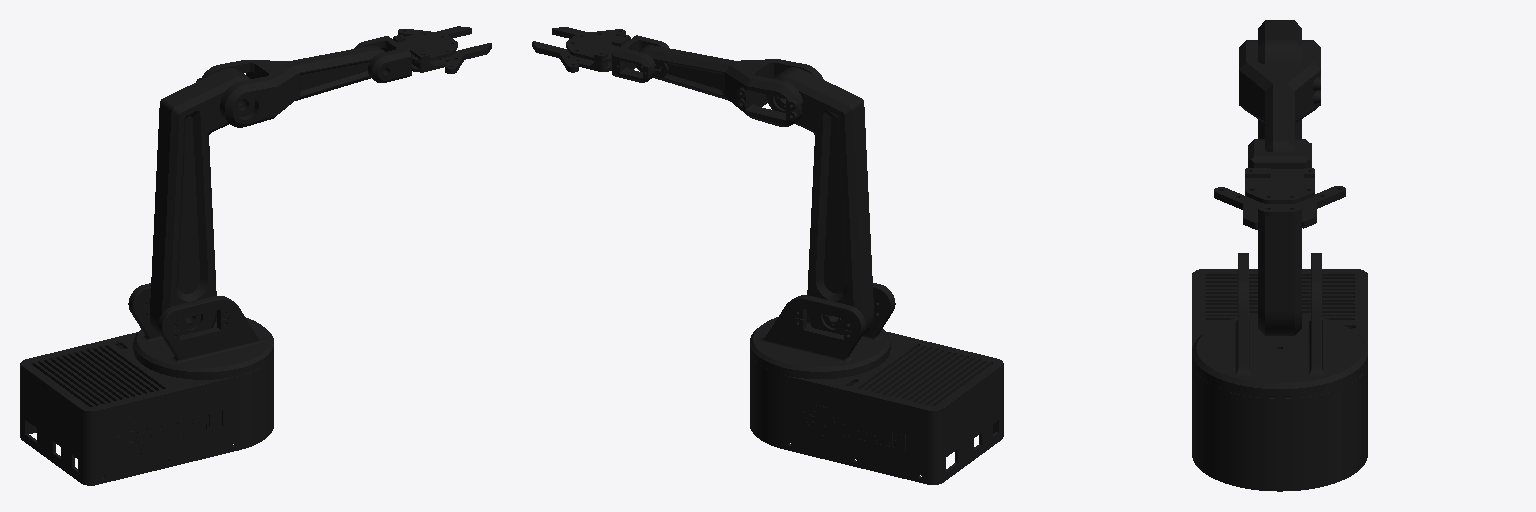
robot.urdf — robot_arm:
<?xml version="1.0"?>
<robot name="robot_arm">

  <!-- ===== MATERIALS ===== -->
  <material name="black"><color rgba="0.15 0.15 0.15 1"/></material>
  <material name="blue"><color rgba="0.2 0.5 0.9 1"/></material>
  <material name="red"><color rgba="0.9 0.2 0.2 1"/></material>
  <material name="green"><color rgba="0.2 0.9 0.3 1"/></material>

  <!-- Anchors base_link to the world origin so robot_state_publisher
       publishes a world -> base_link static TF frame for Foxglove/RViz. -->
  <link name="world"/>
  <joint name="world_to_base" type="fixed">
    <parent link="world"/>
    <child link="base_link"/>
    <origin xyz="0 0 0" rpy="0 0 0"/>
  </joint>

  <!-- ============================================================ -->
  <!-- BASE LINK: Alt_Kasa                                         -->
  <!-- ============================================================ -->
  <link name="base_link">
    <inertial>
      <mass value="0.5"/>
      <inertia ixx="0.001" ixy="0.0" ixz="0.0" iyy="0.001" iyz="0.0" izz="0.001"/>
    </inertial>
    <visual>
      <origin xyz="0 0 0" rpy="0 0 0"/>
      <geometry>
        <mesh filename="package://robot_arm_description/meshes/Alt_Kasa.stl" scale="0.001 0.001 0.001"/>
      </geometry>
      <material name="black"/>
    </visual>
    <collision>
      <origin xyz="-0.05 0 0.035" rpy="0 0 0"/>
      <geometry>
        <box size="0.20 0.12 0.07"/>
      </geometry>
    </collision>
  </link>

  <joint name="joint1" type="revolute">
    <parent link="base_link"/>
    <child link="link1"/>
    <origin xyz="0 0 0.07" rpy="0 0 0"/>
    <axis xyz="0 0 1"/>
    <limit lower="-3.14" upper="3.14" effort="5.0" velocity="3.0"/>
  </joint>

  <link name="link1">
    <inertial>
      <mass value="0.3"/>
      <inertia ixx="0.001" ixy="0.0" ixz="0.0" iyy="0.001" iyz="0.0" izz="0.001"/>
    </inertial>
    <visual>
      <origin xyz="0 0 0.01" rpy="0 0 3.14159"/>
      <geometry>
        <mesh filename="package://robot_arm_description/meshes/Alt_Govde.stl" scale="0.001 0.001 0.001"/>
      </geometry>
      <material name="black"/>
    </visual>
    <collision>
      <origin xyz="0 0 0.03" rpy="0 0 0"/>
      <geometry>
        <box size="0.1 0.1 0.05"/>
      </geometry>
    </collision>
  </link>

  <joint name="joint2" type="revolute">
    <parent link="link1"/>
    <child link="link2"/>
    <origin xyz="-0.02 0 0.04" rpy="0 0 0"/>
    <axis xyz="0 1 0"/>
    <limit lower="-1.57" upper="1.57" effort="5.0" velocity="3.0"/>
  </joint>

  <link name="link2">
    <inertial>
      <mass value="0.15"/>
      <inertia ixx="0.001" ixy="0.0" ixz="0.0" iyy="0.001" iyz="0.0" izz="0.001"/>
    </inertial>
    <visual>
      <origin xyz="0 0 0.1" rpy="0 0 0"/>
      <geometry>
        <mesh filename="package://robot_arm_description/meshes/Alt_Kol.stl" scale="0.001 0.001 0.001"/>
      </geometry>
      <material name="black"/>
    </visual>
    <collision>
      <origin xyz="0 0 0.11" rpy="0 0 0"/>
      <geometry>
        <box size="0.05 0.03 0.15"/>
      </geometry>
    </collision>
  </link>

  <joint name="joint3" type="revolute">
    <parent link="link2"/>
    <child link="link3"/>
    <origin xyz="0.047 0 0.1925" rpy="0 0 0"/>
    <axis xyz="0 1 0"/>
    <limit lower="-1.57" upper="1.57" effort="5.0" velocity="3.0"/>
  </joint>

  <link name="link3">
    <inertial>
      <mass value="0.15"/>
      <inertia ixx="0.001" ixy="0.0" ixz="0.0" iyy="0.001" iyz="0.0" izz="0.001"/>
    </inertial>
    <visual>
      <origin xyz="0 0 0" rpy="0 3.14159 0"/>
      <geometry>
        <mesh filename="package://robot_arm_description/meshes/On_Kol.stl" scale="0.001 0.001 0.001"/>
      </geometry>
      <material name="black"/>
    </visual>
    <collision>
      <origin xyz="0.07 0 0" rpy="0 0 0"/>
      <geometry>
        <box size="0.12 0.04 0.04"/>
      </geometry>
    </collision>
  </link>

  <joint name="joint4" type="revolute">
    <parent link="link3"/>
    <child link="link4"/>
    <origin xyz="0.141 0 -0.001" rpy="0 0 0"/>
    <axis xyz="0 1 0"/>
    <limit lower="-1.57" upper="1.57" effort="5.0" velocity="3.0"/>
  </joint>

  <link name="link4">
    <inertial>
      <mass value="0.1"/>
      <inertia ixx="0.001" ixy="0.0" ixz="0.0" iyy="0.001" iyz="0.0" izz="0.001"/>
    </inertial>
    <visual>
      <origin xyz="0.007 0 0" rpy="0 0 1.5708"/>
      <geometry>
        <mesh filename="package://robot_arm_description/meshes/Bilek.stl" scale="0.001 0.001 0.001"/>
      </geometry>
      <material name="black"/>
    </visual>
    <collision>
      <origin xyz="0.017 0 0" rpy="0 0 0"/>
      <geometry>
        <box size="0.015 0.04 0.03"/>
      </geometry>
    </collision>
  </link>

  <joint name="gripper_joint" type="fixed">
    <parent link="link4"/>
    <child link="gripper_link"/>
    <origin xyz="0.052 0 -0.008" rpy="0 0 0"/>
  </joint>

  <link name="gripper_link">
    <inertial>
      <mass value="0.03"/>
      <inertia ixx="0.001" ixy="0.0" ixz="0.0" iyy="0.001" iyz="0.0" izz="0.001"/>
    </inertial>
    <visual>
      <origin xyz="0 0 0" rpy="0 0 0"/>
      <geometry>
        <mesh filename="package://robot_arm_description/meshes/El_Ust.stl" scale="0.001 0.001 0.001"/>
      </geometry>
      <material name="black"/>
    </visual>
    <collision>
      <origin xyz="0 0 0" rpy="0 0 0"/>
      <geometry>
        <box size="0.03 0.03 0.005"/>
      </geometry>
    </collision>
  </link>

  <link name="finger_right_link">
    <inertial>
      <mass value="0.005"/>
      <inertia ixx="0.001" ixy="0.0" ixz="0.0" iyy="0.001" iyz="0.0" izz="0.001"/>
    </inertial>
    <visual>
      <origin xyz="0 -0.04 0.008" rpy="3.14159 0 0.785"/>
      <geometry>
        <mesh filename="package://robot_arm_description/meshes/Parmak_2_X_2.stl" scale="0.001 0.001 0.001"/>
      </geometry>
      <material name="black"/>
    </visual>
    <collision>
      <origin xyz="0.035 -0.019 0.007" rpy="0 0 0"/>
      <geometry>
        <box size="0.03 0.005 0.005"/>
      </geometry>
    </collision>
  </link>

  <joint name="finger_right_joint" type="prismatic">
    <parent link="gripper_link"/>
    <child link="finger_right_link"/>
    <origin xyz="0 0 0" rpy="0 0 0"/>
    <axis xyz="0 1 0"/>
    <limit lower="0" upper="0.015" effort="1.0" velocity="1.0"/>
  </joint>

  <link name="finger_left_link">
    <inertial>
      <mass value="0.005"/>
      <inertia ixx="0.001" ixy="0.0" ixz="0.0" iyy="0.001" iyz="0.0" izz="0.001"/>
    </inertial>
    <visual>
      <origin xyz="0 0.04 0.004" rpy="0 0 -0.785"/>
      <geometry>
        <mesh filename="package://robot_arm_description/meshes/Parmak_2_X_2.stl" scale="0.001 0.001 0.001"/>
      </geometry>
      <material name="black"/>
    </visual>
    <collision>
      <origin xyz="0.035 0.019 0.007" rpy="0 0 0"/>
      <geometry>
        <box size="0.03 0.005 0.005"/>
      </geometry>
    </collision>
  </link>
  <joint name="finger_left_joint" type="prismatic">
    <parent link="gripper_link"/>
    <child link="finger_left_link"/>
    <origin xyz="0 0 0" rpy="0 0 0"/>
    <axis xyz="0 -1 0"/>
    <limit lower="0" upper="0.015" effort="1.0" velocity="1.0"/>
  </joint>

   <link name="cap_link">
    <inertial>
      <mass value="0.005"/>
      <inertia ixx="0.001" ixy="0.0" ixz="0.0" iyy="0.001" iyz="0.0" izz="0.001"/>
    </inertial>
    <visual>
      <origin xyz="0 0 0.004" rpy="3.14159 0 0"/>
      <geometry>
        <mesh filename="package://robot_arm_description/meshes/El.stl" scale="0.001 0.001 0.001"/>
      </geometry>
      <material name="black"/>
    </visual>
    <collision>
      <origin xyz="0 0 0" rpy="0 0 0"/>
      <geometry>
        <box size="0.015 0.015 0.008"/>
      </geometry>
    </collision>
    </link>
    <joint name="cap_joint" type="fixed">
      <parent link="gripper_link"/>
      <child link="cap_link"/>
      <origin xyz="0 0 0.008" rpy="0 0 0"/> 
    </joint>

</robot>

--- Render facts (derived) ---
3 views of the same robot in one strip: view 1: azimuth 30°, elevation 25°; view 2: azimuth 150°, elevation 25°; view 3: azimuth 270°, elevation 25° (orthographic).
Model robot_arm with 10 links and 9 joints (4 revolute, 2 prismatic, 3 fixed), rooted at world, posed all joints at 0.
Links seen in each view (by area): view 1: base_link, link2, link1, link3, link4, cap_link, finger_right_link, gripper_link; view 2: base_link, link2, link1, link3, link4, cap_link, finger_left_link, gripper_link; view 3: base_link, link1, link2, link3, cap_link, link4, gripper_link, finger_right_link, finger_left_link.
Boxes of the visible links, bbox=[...] form: base_link: bbox=[20, 332, 273, 485]; link2: bbox=[150, 68, 249, 335]; link1: bbox=[128, 283, 273, 379]; link3: bbox=[196, 46, 384, 127]; link4: bbox=[354, 36, 411, 82]; cap_link: bbox=[399, 32, 457, 62]; finger_right_link: bbox=[445, 43, 491, 73]; gripper_link: bbox=[393, 34, 450, 72]; base_link: bbox=[750, 332, 1003, 484]; link2: bbox=[766, 67, 873, 335]; link1: bbox=[750, 283, 895, 378]; link3: bbox=[635, 45, 823, 126]; link4: bbox=[612, 35, 668, 82]; cap_link: bbox=[566, 32, 618, 62]; finger_left_link: bbox=[532, 41, 578, 72]; gripper_link: bbox=[574, 34, 630, 71]; base_link: bbox=[1192, 269, 1367, 491]; link1: bbox=[1192, 253, 1367, 398]; link2: bbox=[1258, 20, 1301, 335]; link3: bbox=[1239, 40, 1320, 151]; cap_link: bbox=[1245, 169, 1314, 203]; link4: bbox=[1248, 139, 1311, 168]; gripper_link: bbox=[1245, 168, 1314, 215]; finger_right_link: bbox=[1214, 187, 1257, 229]; finger_left_link: bbox=[1302, 186, 1345, 228].
Bounding box of the posed robot: 0.4234 × 0.12 × 0.3243 m (x, y, z).
9 mesh visuals loaded from 8 distinct referenced files (8 binary STL).
